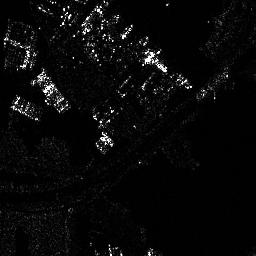ship: (31, 71, 72, 112), (9, 97, 41, 122), (141, 49, 167, 73), (170, 72, 193, 89)
